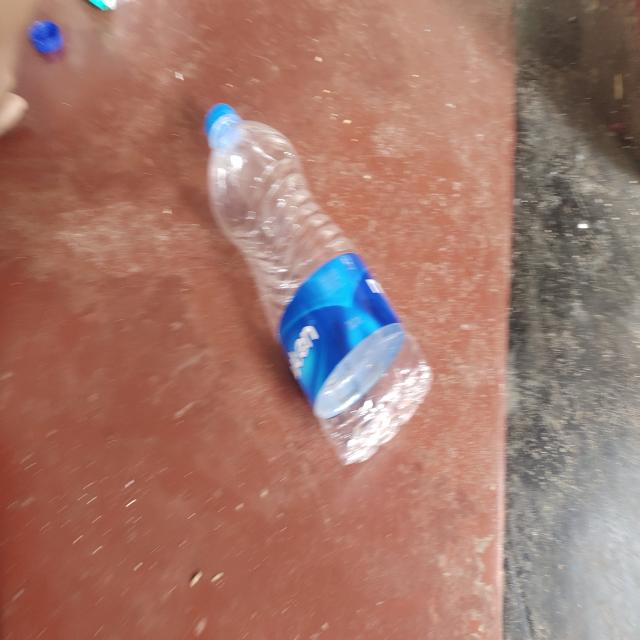plastic: (202, 104, 434, 469)
